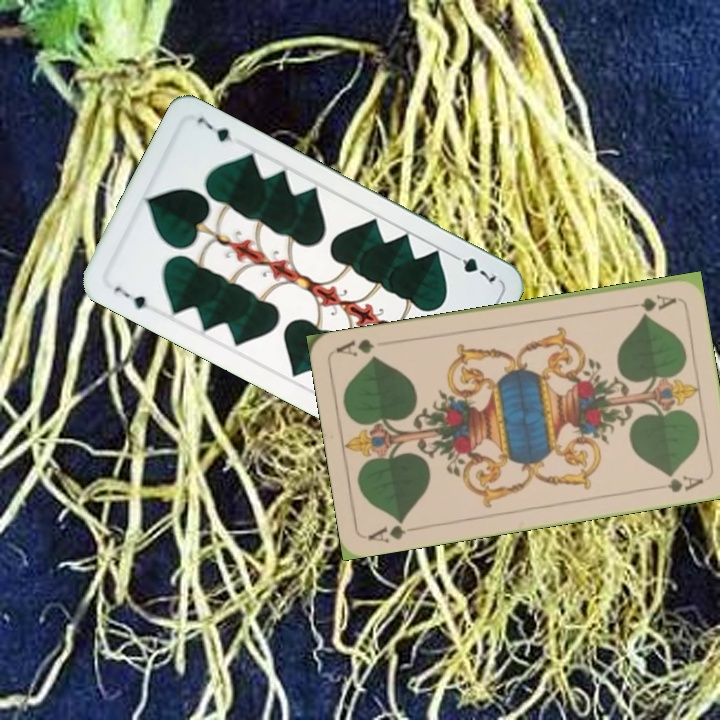G7: (446, 249, 501, 285), (110, 282, 150, 312)
GA: (364, 515, 423, 545), (620, 290, 679, 314)
